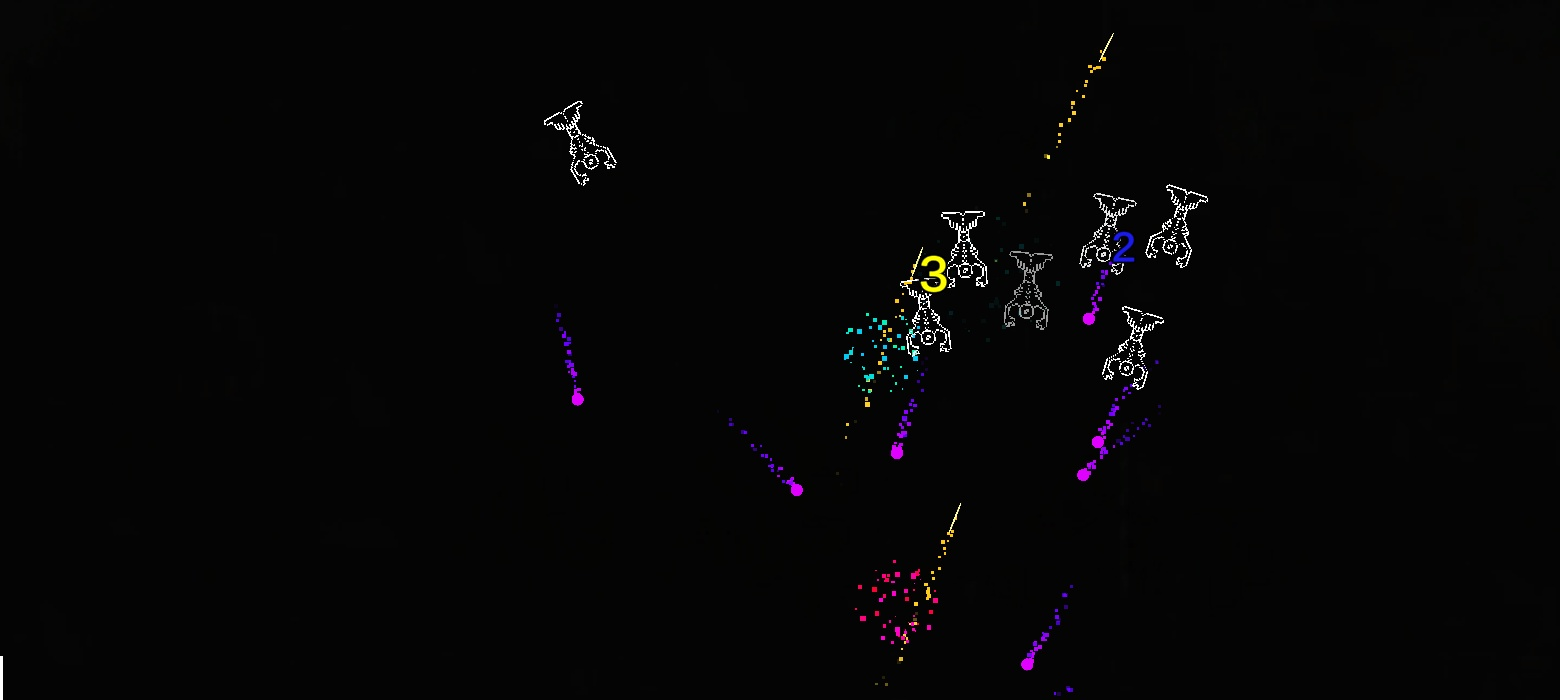enemy: (544, 100, 617, 186), (1145, 184, 1209, 269), (1102, 305, 1164, 390), (1079, 193, 1137, 276), (899, 276, 952, 355), (1003, 250, 1053, 330), (941, 210, 988, 287)
